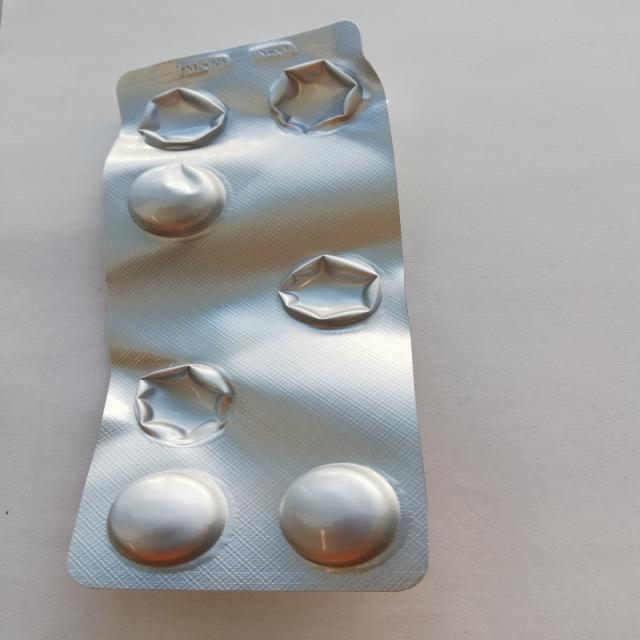Empty: (266, 246, 392, 330), (122, 359, 237, 448), (254, 54, 368, 138), (128, 78, 230, 150)
Pill: (268, 457, 408, 578), (100, 462, 231, 574), (124, 160, 230, 240)
